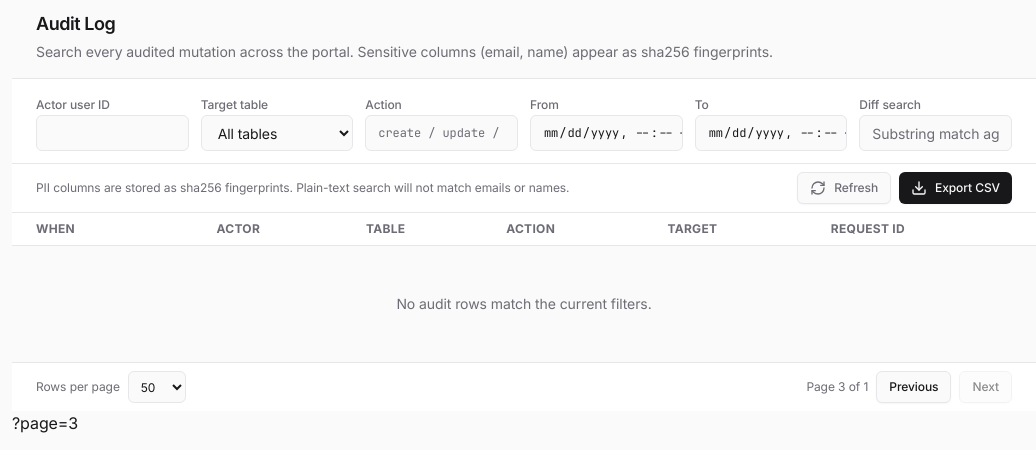
AdminAuditPage › L-14: the debounced q commit lands in the URL and rewinds the page param
Type "alpha" into the field with test id "admin-audit-q".
click(936, 133); type("alpha")  # box x1=859 y1=115 x2=1012 y2=151
Wait 350 ms
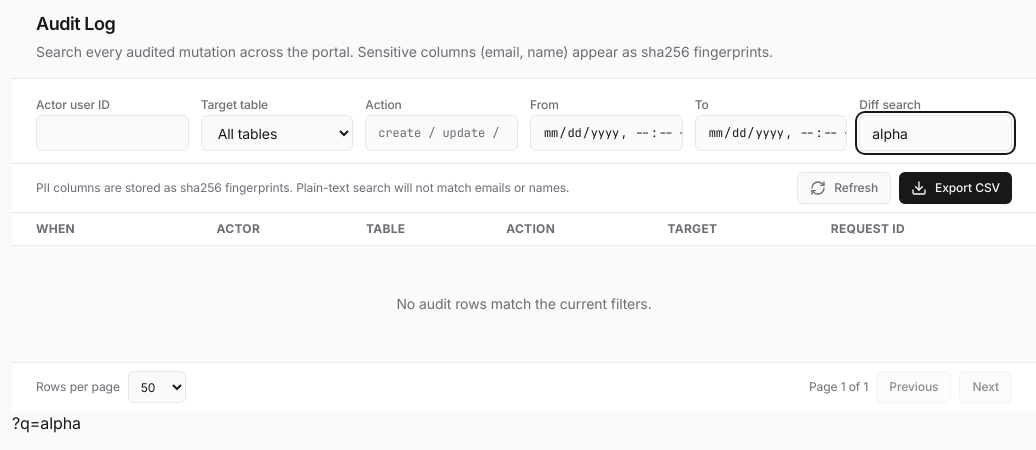
expect the text with test id "location-search" shows "q=alpha": met, box x1=12 y1=413 x2=81 y2=433
expect the text with test id "location-search" no longer shows "page=3": met
